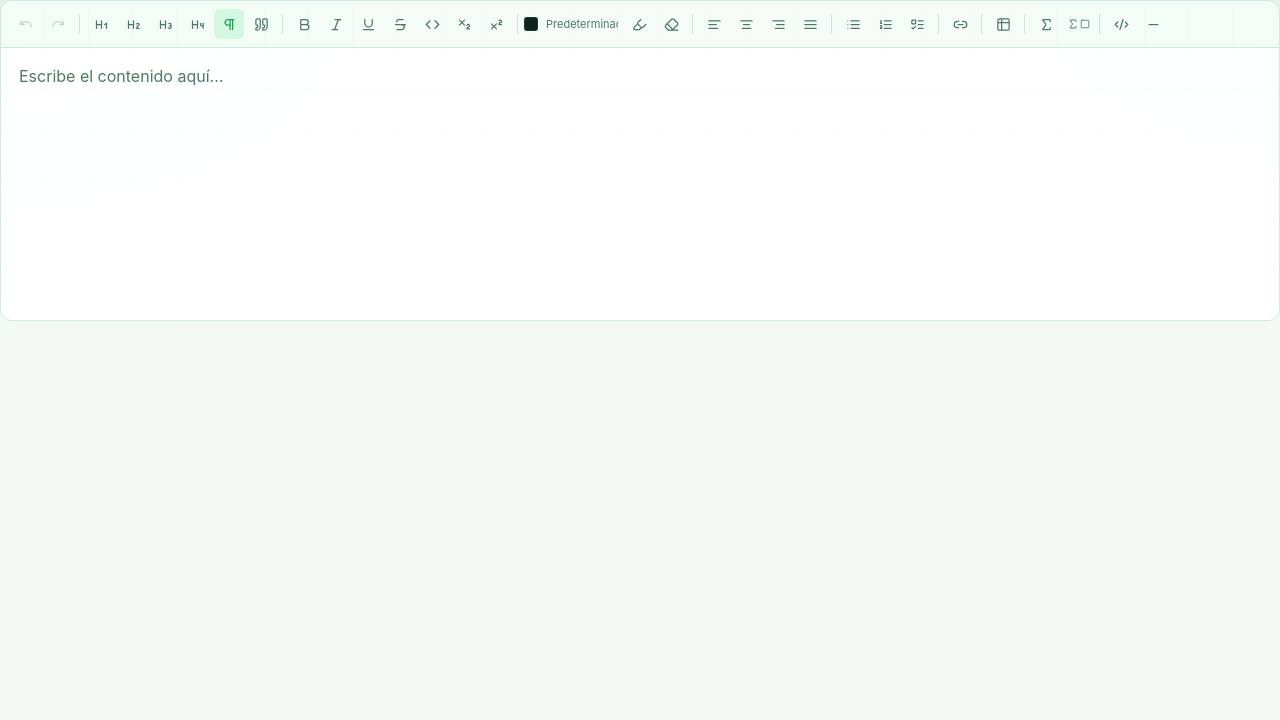
Test case: Math formula support › opens math modal when inline math button is clicked
Click the button titled "Fórmula en línea (∑)". click: (1046, 24)
box: [1031,9,1061,39]
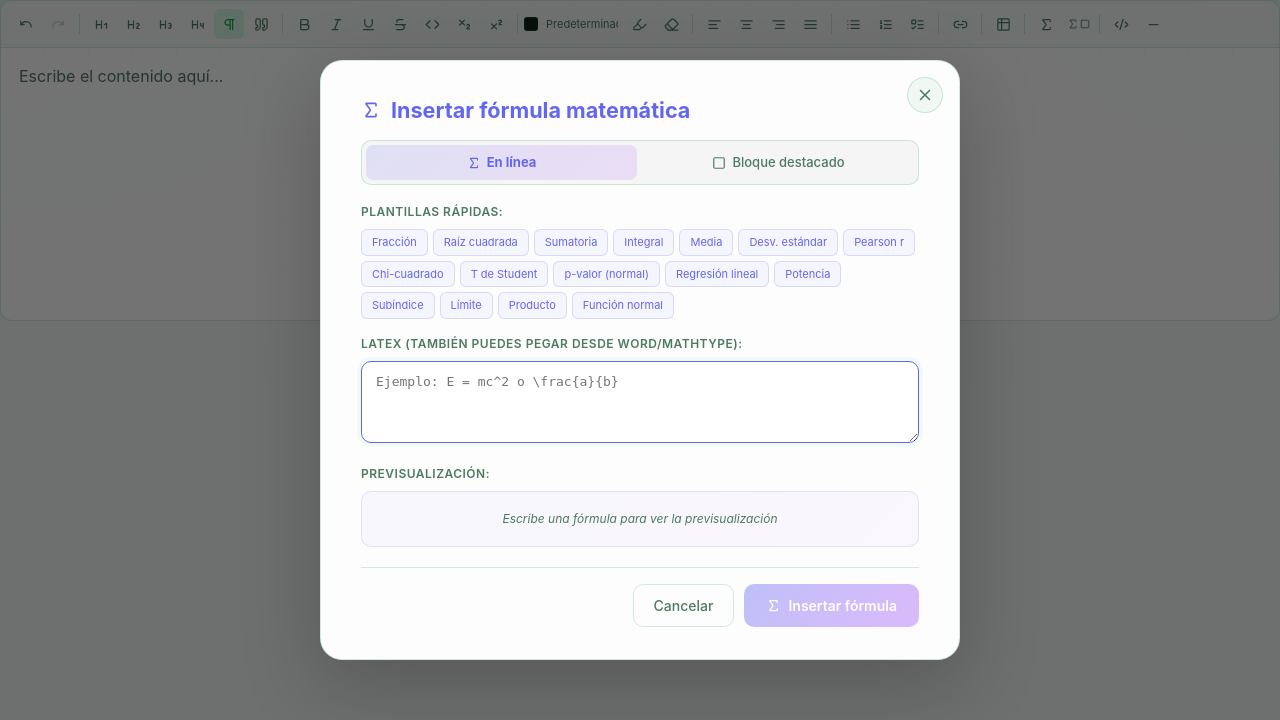
Expected: the heading "Insertar fórmula matemática" is shown, [361,97,690,123]
